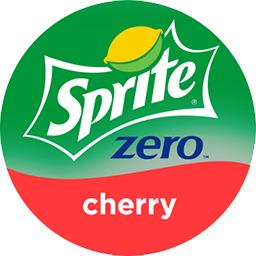sprite: (47, 46, 196, 140)
